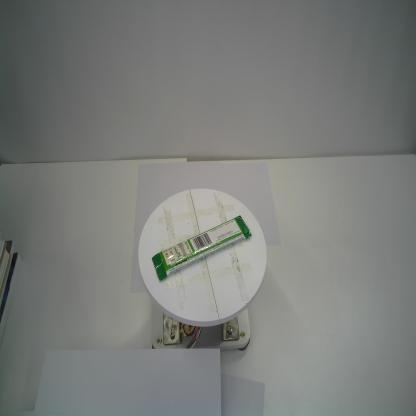Chocolate: (150, 214, 252, 283)
